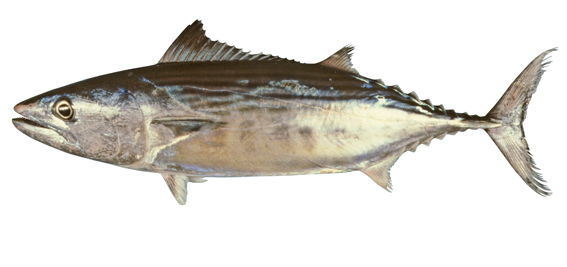fish: (11, 19, 559, 205)
